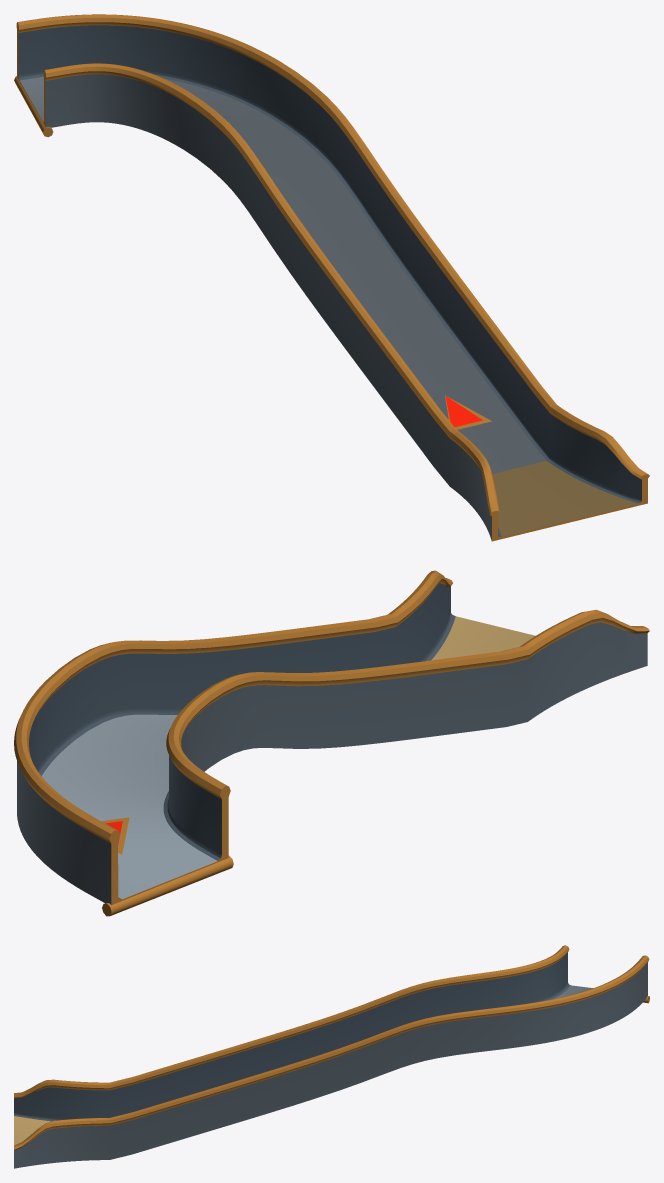
File: aurora-rampDeck.dae
The picture shows the model from 3 angles, top to bottom: view 1: azimuth 30°, elevation 25°; view 2: azimuth 150°, elevation 25°; view 3: azimuth 270°, elevation 25°; orthographic projection. The views are drawn at different scales.
Visible parts, largest first — view 1: channel_liner, channel_floor, channel_shell, accent, channel_entry; view 2: channel_shell, channel_liner, accent, channel_floor, channel_entry; view 3: channel_shell, channel_liner, accent, channel_entry.
Boxes of the visible parts, x1=… form: channel_liner: x1=18, y1=25, x2=641, y2=536; channel_floor: x1=20, y1=77, x2=546, y2=473; channel_shell: x1=45, y1=74, x2=491, y2=540; accent: x1=14, y1=14, x2=649, y2=541; channel_entry: x1=492, y1=461, x2=637, y2=536; channel_shell: x1=17, y1=622, x2=647, y2=904; channel_liner: x1=29, y1=583, x2=455, y2=899; accent: x1=14, y1=570, x2=649, y2=916; channel_floor: x1=41, y1=714, x2=217, y2=899; channel_entry: x1=431, y1=616, x2=535, y2=660; channel_shell: x1=14, y1=962, x2=647, y2=1168; channel_liner: x1=14, y1=952, x2=570, y2=1121; accent: x1=14, y1=945, x2=649, y2=1150; channel_entry: x1=14, y1=1116, x2=50, y2=1145.
Size of the model in its own units: 0.2138 by 0.1903 by 0.7311.
